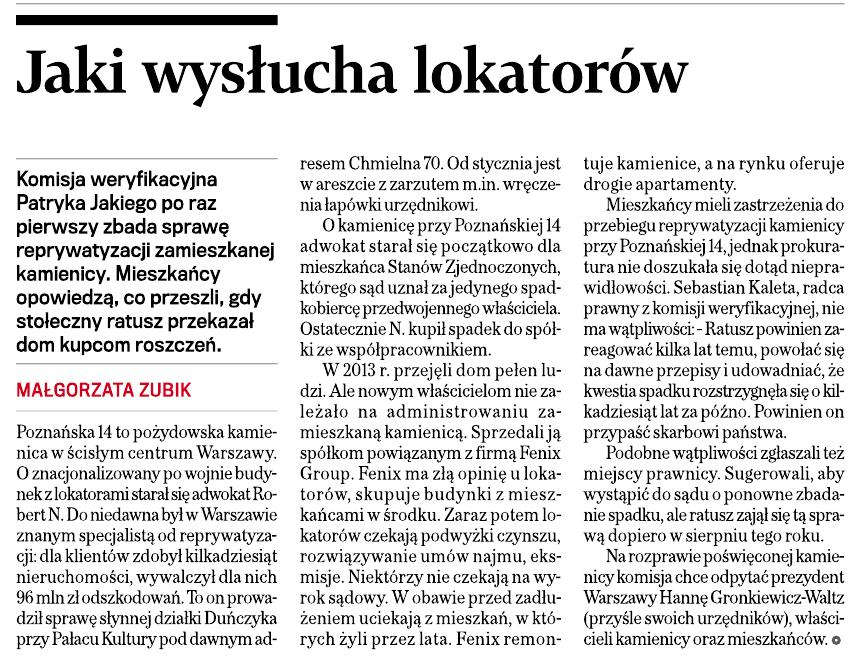author: (11, 370, 217, 406)
body: (571, 151, 855, 658), (291, 151, 566, 657), (6, 416, 283, 658)
lead: (11, 162, 285, 360)
title: (10, 32, 706, 114)
